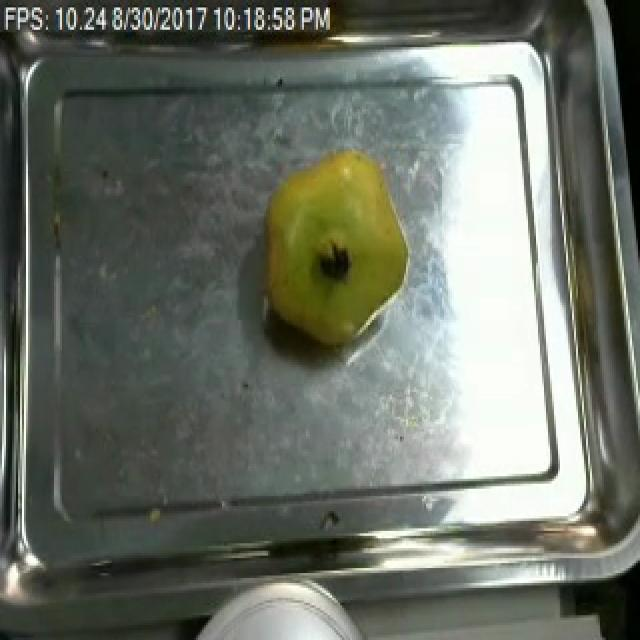fruit: (254, 139, 418, 357)
